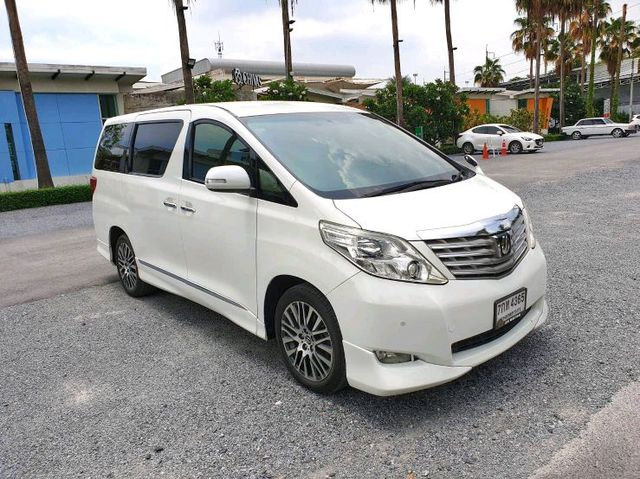van: (89, 98, 551, 399)
